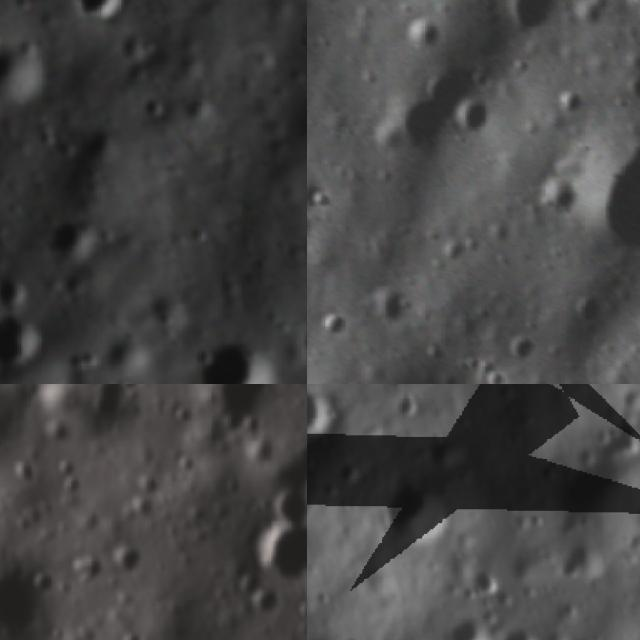crater: (581, 128, 640, 256), (0, 550, 60, 640), (198, 384, 283, 444), (250, 516, 307, 583), (388, 478, 445, 540), (399, 95, 454, 158), (203, 338, 270, 384), (78, 384, 132, 434), (0, 52, 46, 103), (370, 281, 416, 327), (50, 221, 98, 264), (455, 98, 490, 149), (567, 289, 604, 333), (405, 9, 445, 49), (506, 0, 553, 30), (542, 180, 578, 218), (320, 301, 354, 341), (307, 389, 333, 441), (506, 330, 540, 363), (86, 0, 130, 24), (442, 617, 482, 640), (480, 369, 509, 384)
